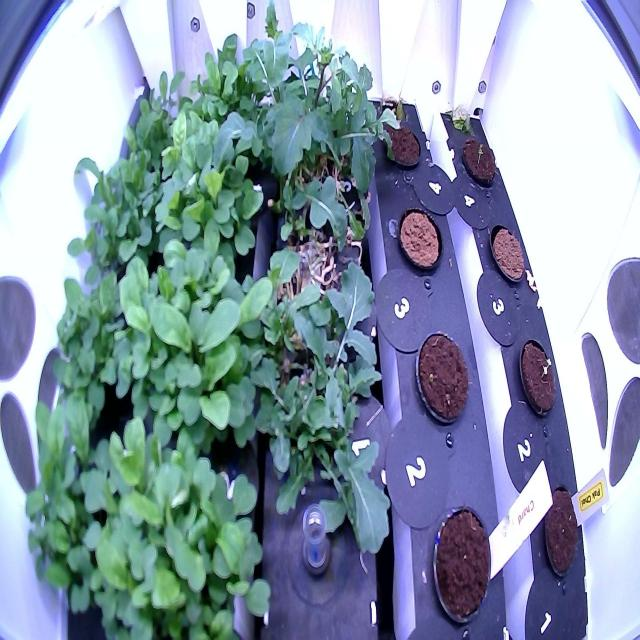germination: (516, 332, 558, 422), (458, 130, 498, 192)
pod: (427, 500, 494, 630), (412, 321, 472, 432), (541, 478, 584, 588), (393, 201, 446, 279), (379, 104, 426, 177), (486, 216, 527, 288)
